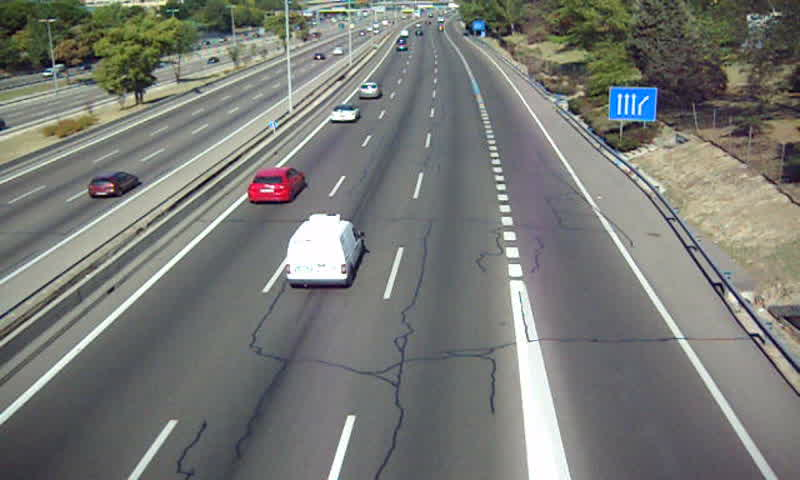car: (248, 168, 302, 204), (330, 104, 362, 124), (357, 81, 381, 100)
van: (285, 214, 363, 286)
